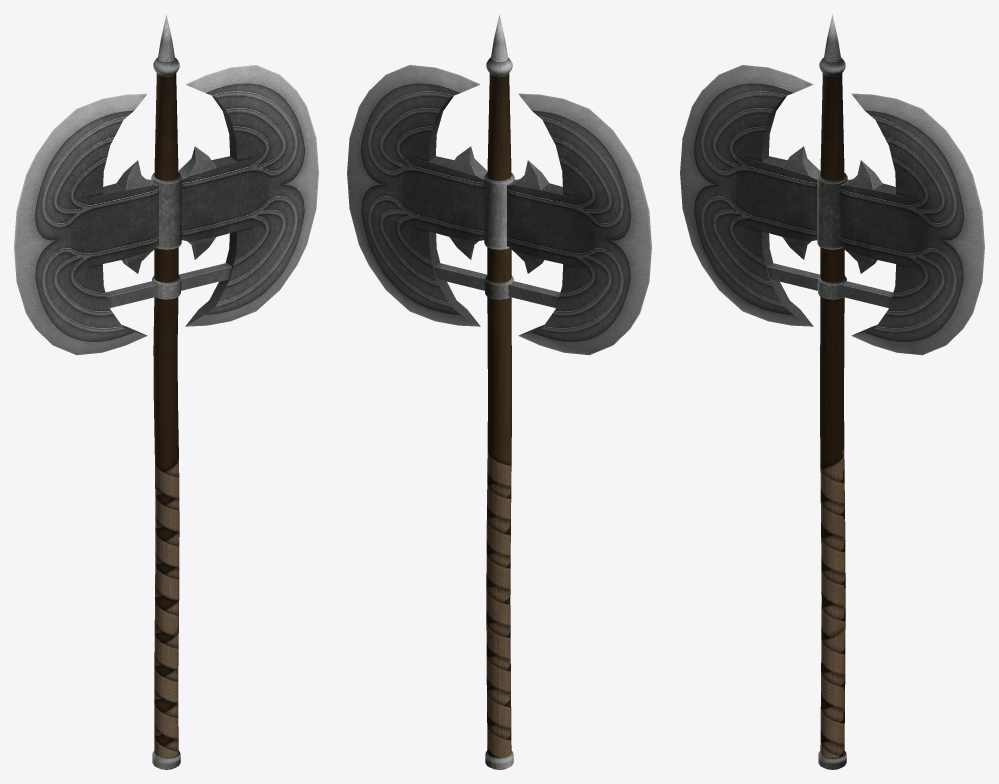
Rendered from weapon_GreatAxe_Crooked.fbx.
3 views of the same model, side by side, from view 1: azimuth 30°, elevation 25°; view 2: azimuth 150°, elevation 25°; view 3: azimuth 330°, elevation 25° (orthographic).
Parts seen in each view (by area): view 1: Great_Axe; view 2: Great_Axe; view 3: Great_Axe.
Boxes of the visible parts, <box> form: Great_Axe: <box>14,14,318,769</box>; Great_Axe: <box>347,14,651,769</box>; Great_Axe: <box>680,14,984,769</box>.
Size of the model in its own units: 151 by 356 by 12.92.
Materials: 1 (1 with a texture image).
